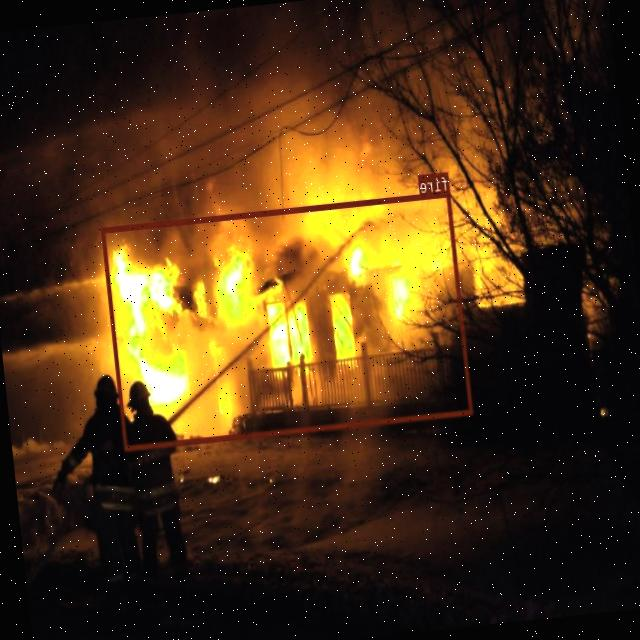fire: (101, 190, 474, 450)
